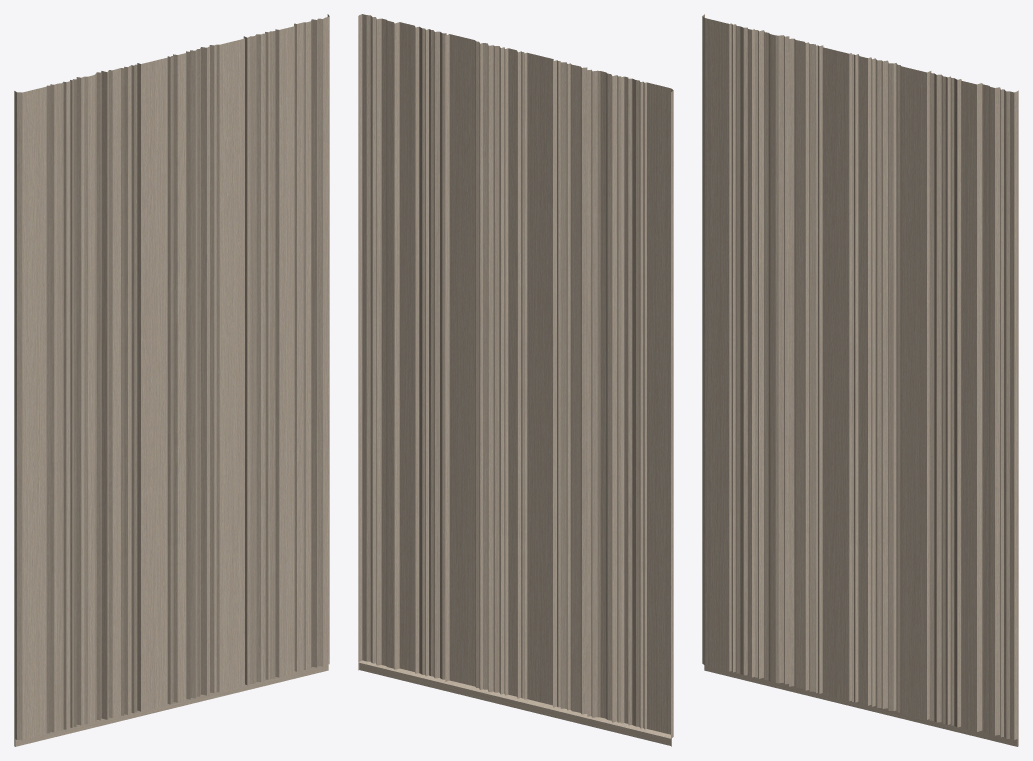
3 renders of one model, left to right at view 1: azimuth 30°, elevation 25°; view 2: azimuth 150°, elevation 25°; view 3: azimuth 330°, elevation 25°, orthographic.
Visible parts, largest first — view 1: M_W_008_d_4x8; view 2: M_W_008_d_4x8; view 3: M_W_008_d_4x8.
Part boxes in pixels (x1,y1,x2,y2): M_W_008_d_4x8: (14,14,329,746); M_W_008_d_4x8: (358,14,673,746); M_W_008_d_4x8: (702,14,1018,746).
Bounding box in the file's own units: 4 × 8 × 0.1039.
